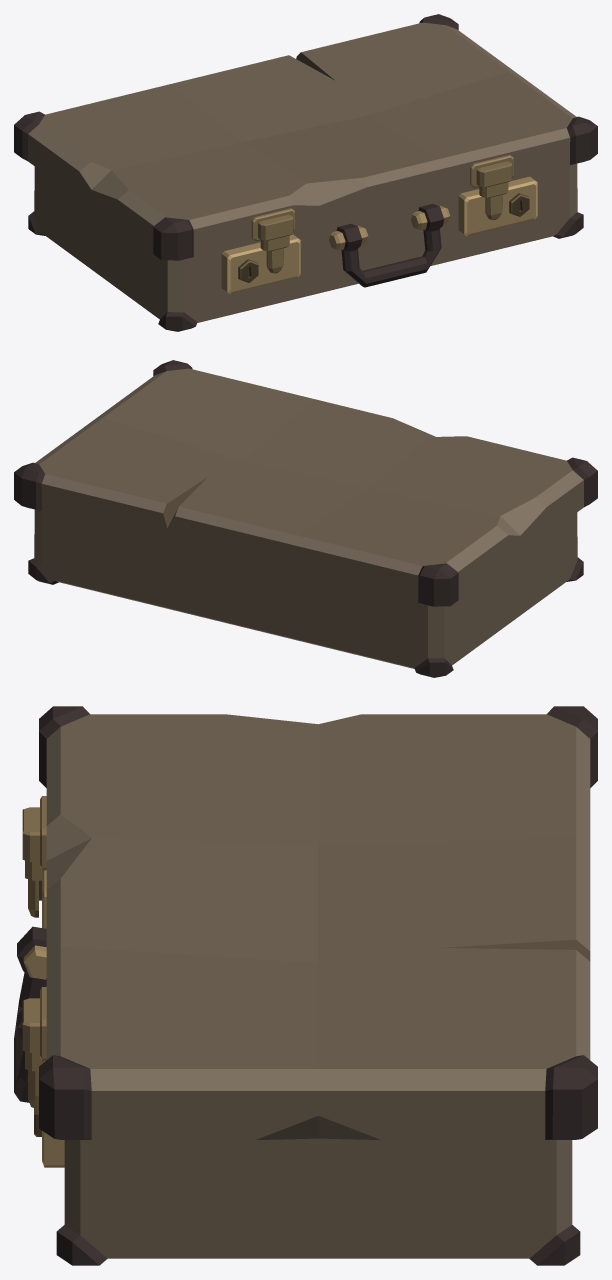
Rendered from WF_LP_HT_Props_Suitcase.002.fbx.
The picture shows the model from 3 angles, top to bottom: view 1: azimuth 30°, elevation 25°; view 2: azimuth 150°, elevation 25°; view 3: azimuth 270°, elevation 25°; orthographic projection. The views are drawn at different scales.
Parts seen in each view (by area): view 1: WF_LP_HT_Props_Suitcase.002; view 2: WF_LP_HT_Props_Suitcase.002; view 3: WF_LP_HT_Props_Suitcase.002.
Boxes of the visible parts, x1,y1,x2,y2 form: WF_LP_HT_Props_Suitcase.002: (14,14,597,331); WF_LP_HT_Props_Suitcase.002: (14,360,597,677); WF_LP_HT_Props_Suitcase.002: (14,706,597,1265).
Size of the model in its own units: 0.8098 by 0.2026 by 0.5243.
